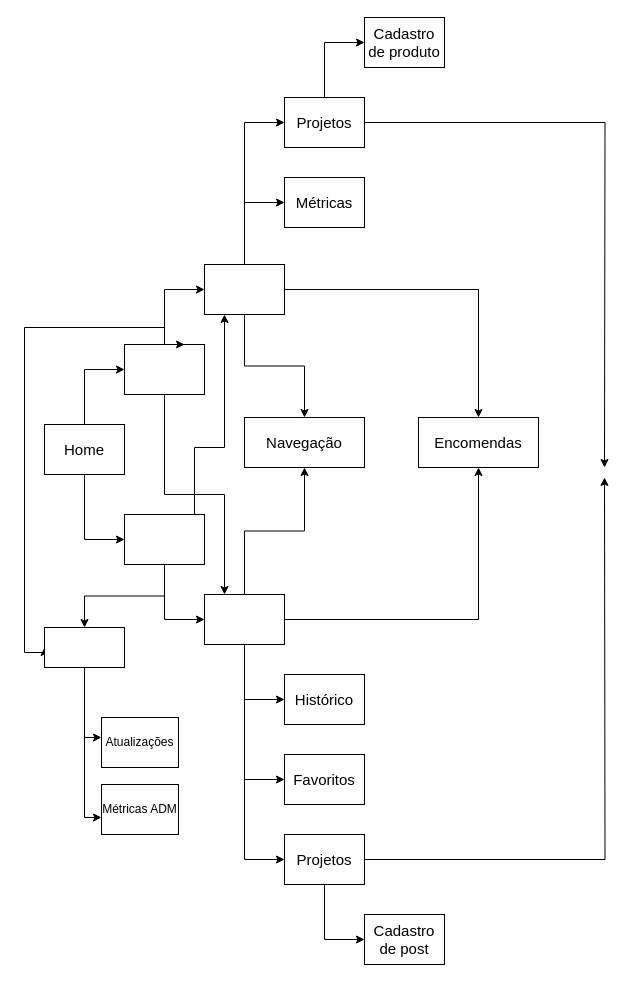
The diagram is 631 pixels wide and 982 high, and some of its shapes have lost their labels. Here are the shapes that lost their labels. From the top down, the centre of each, then its label:
At point 244,289: "Produtor".
At point 164,369: "Login".
At point 164,539: "Cadastro".
At point 244,619: "Artista".
At point 84,647: "ADM".
